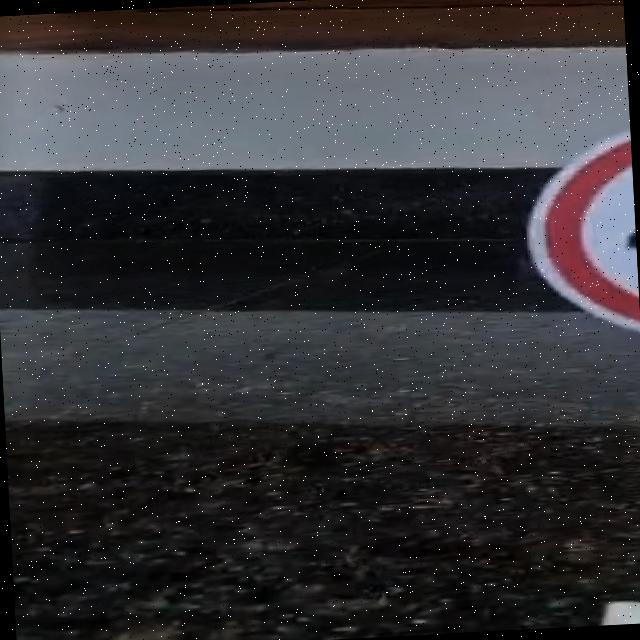Speed40: (501, 104, 640, 360)
